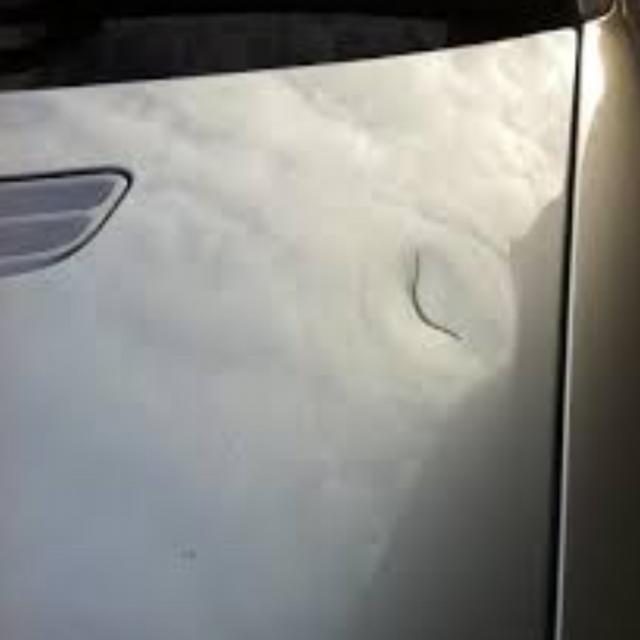dents: (361, 213, 516, 407)
